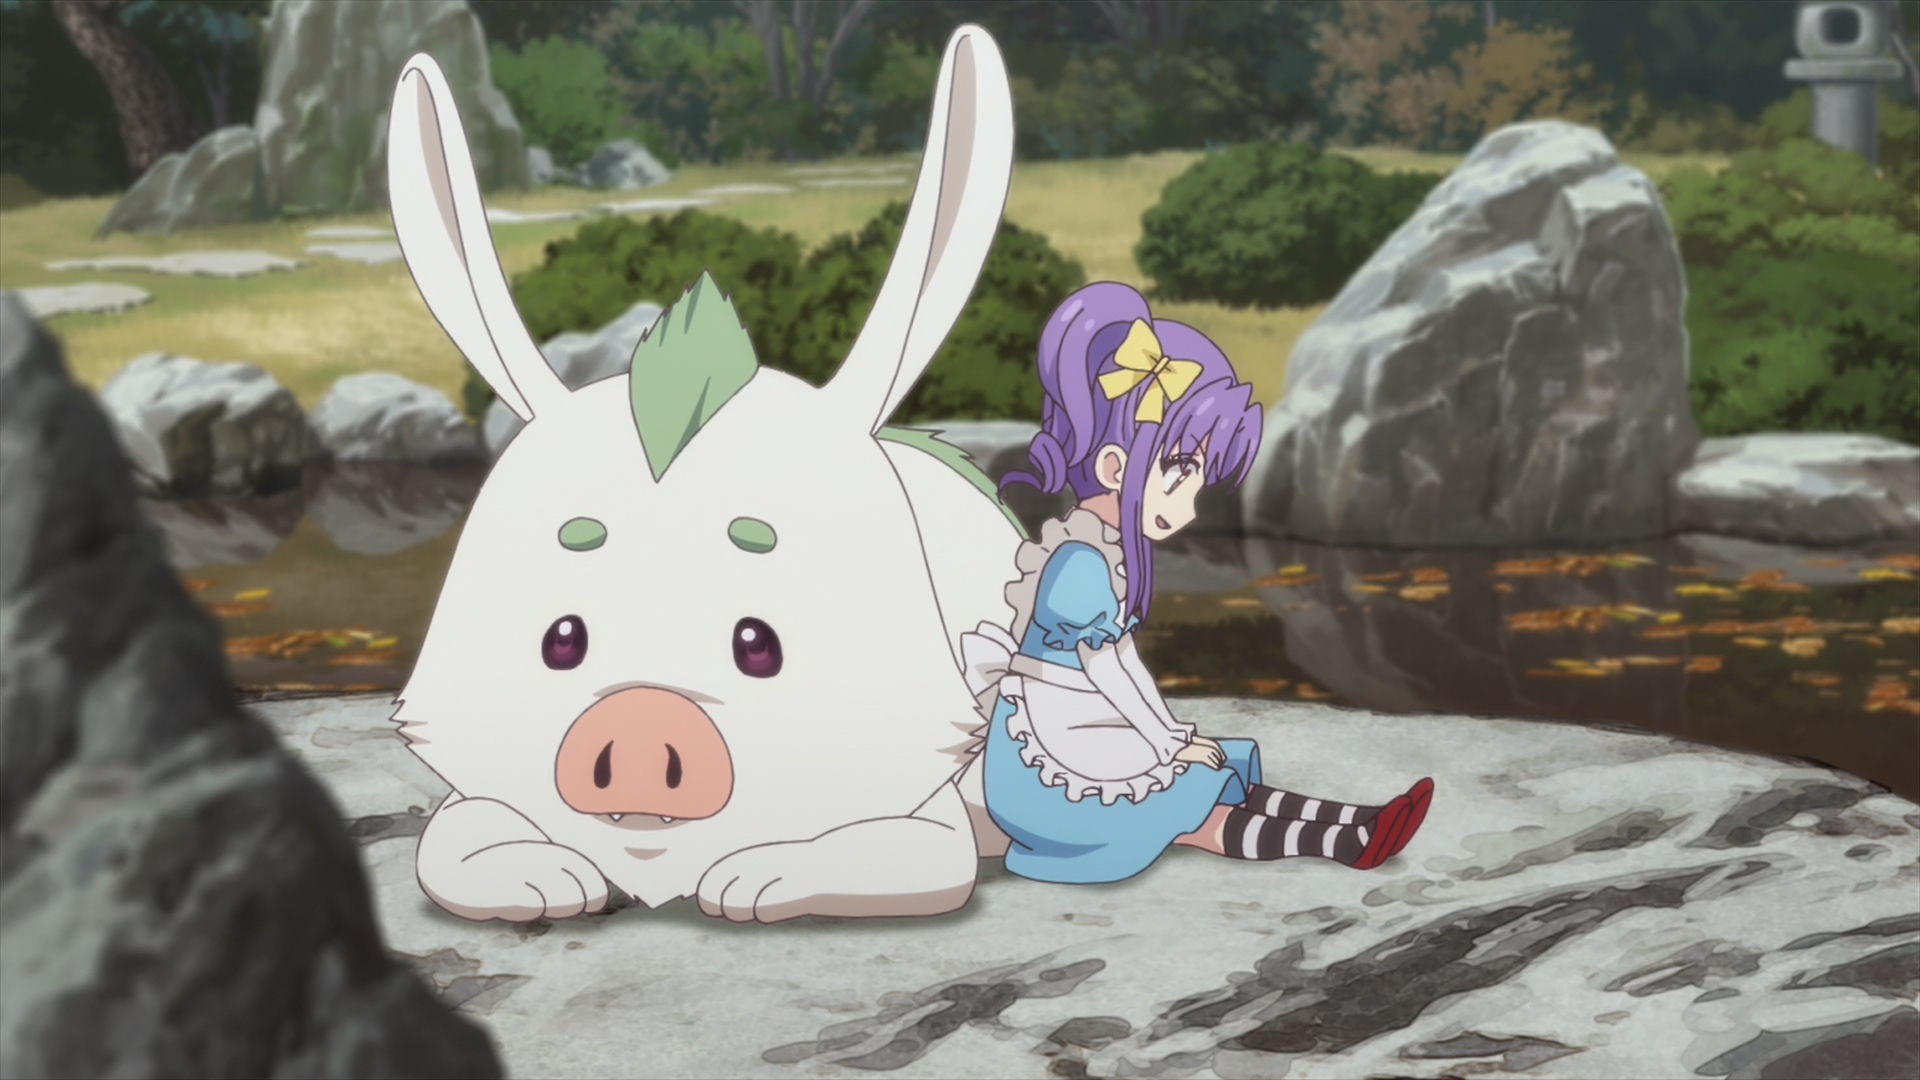瓜之介: (386, 22, 1039, 922)
阿菊: (959, 284, 1433, 886)
